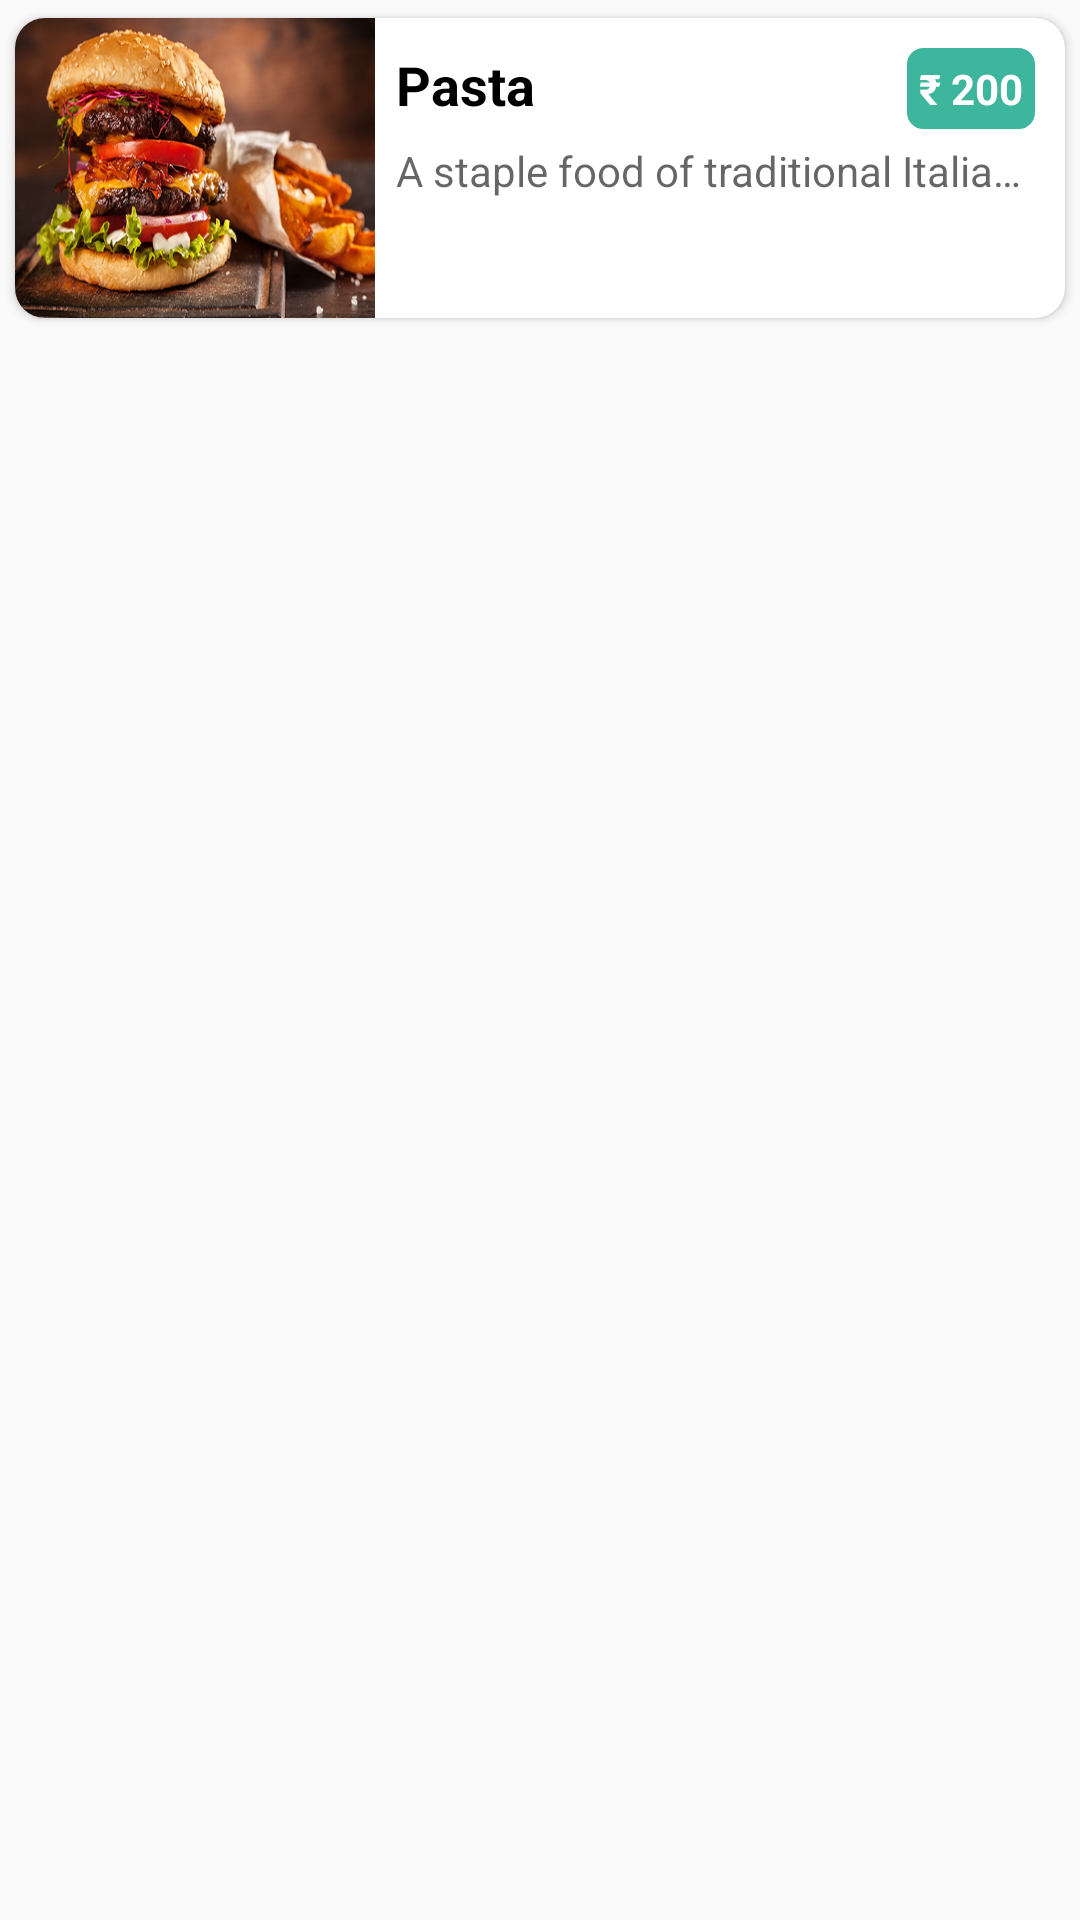

Icons on this 1080px×1920px Android screen, each with its box as detection(x1, y1, x2, y2):
burger: detection(15, 18, 375, 318)
